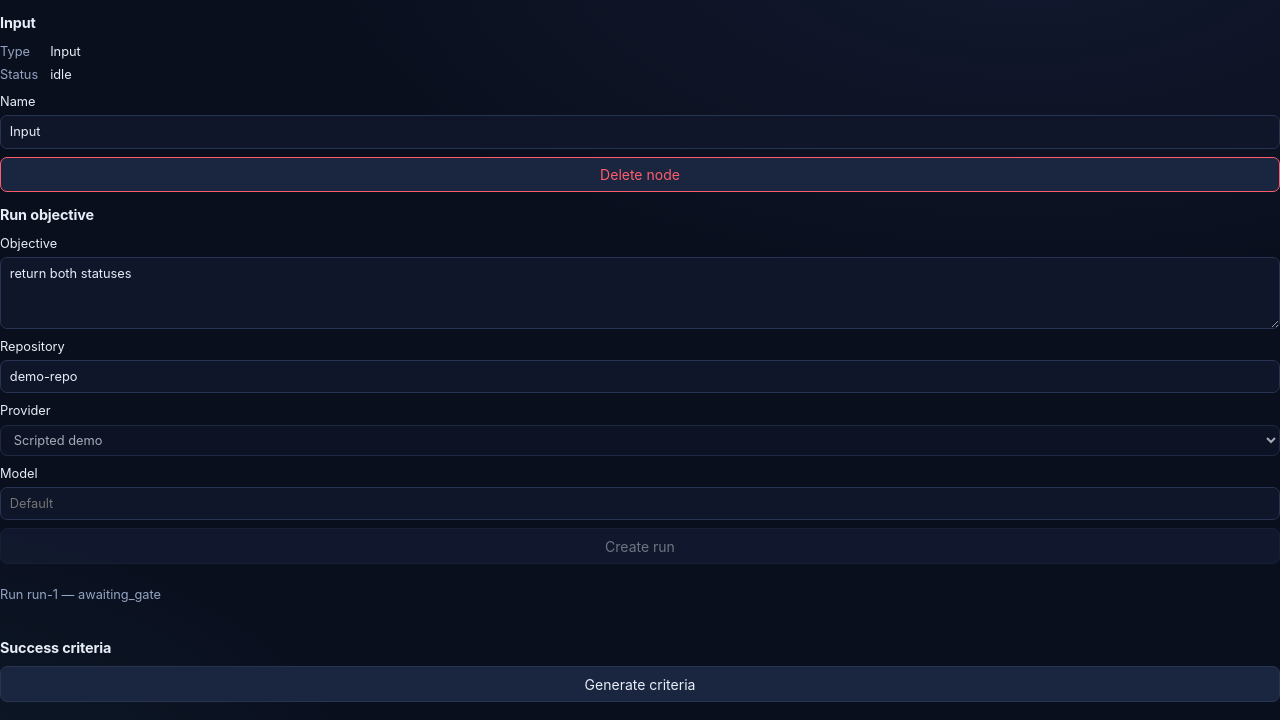
InspectorPanel › reports a generated clarification without presenting criteria to approve
What coordinates should you click on to do the following:
click the button "Generate criteria"
I would click on:
 (640, 684)
Its box is [0,666,1279,702].
(page scrolled)
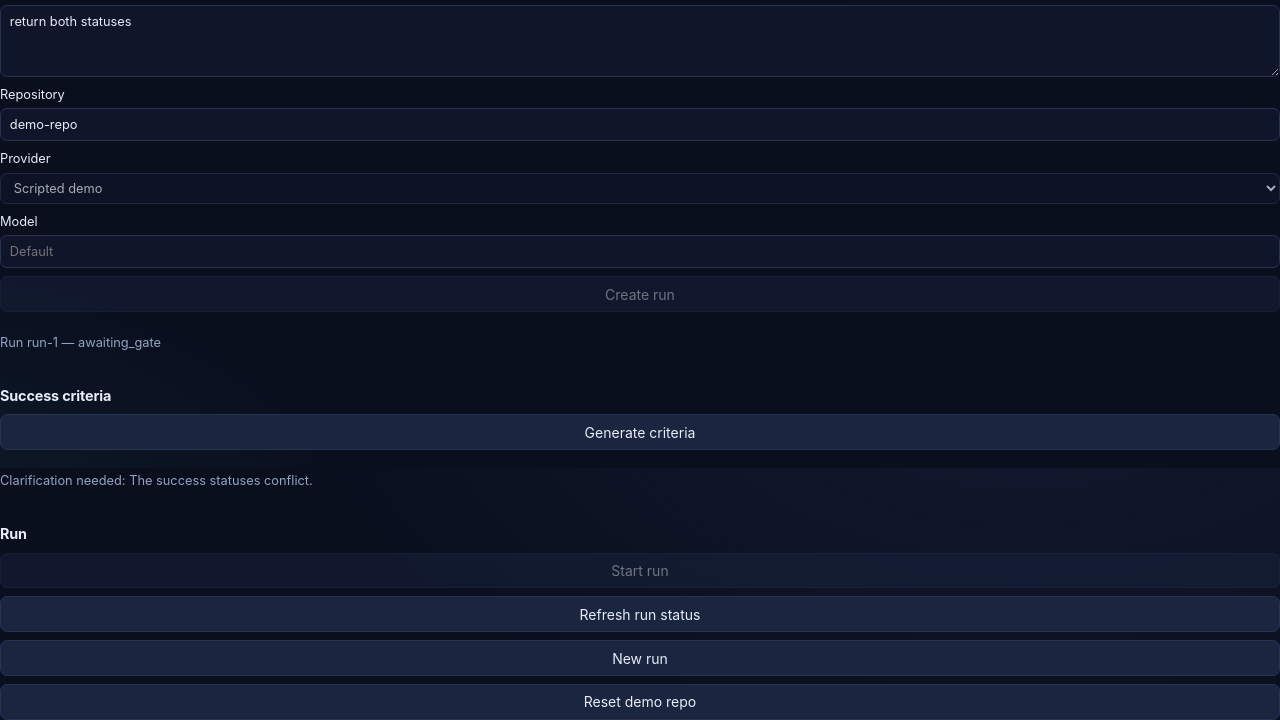
Check: the button "Start run" is disabled, box [0,553,1279,588]
Check: the text "Clarification needed: The success statuses conflict." is shown, box [0,473,313,488]
